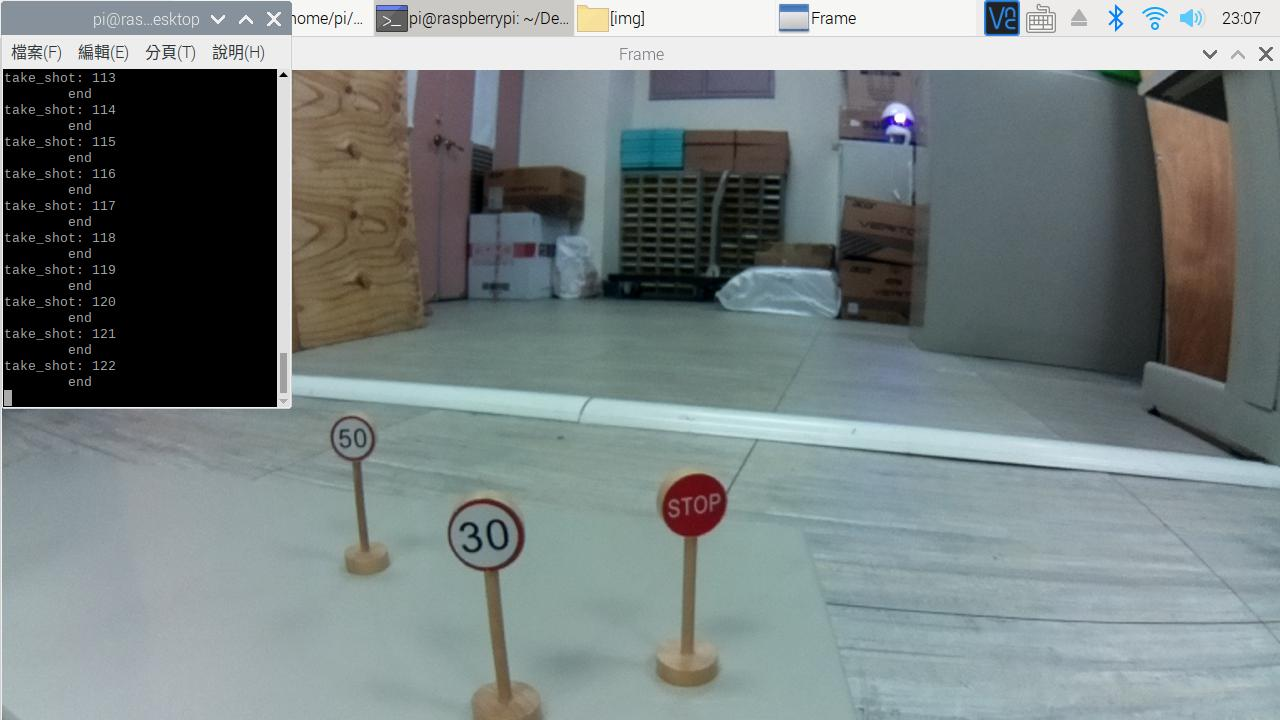Speed30: (440, 492, 544, 587)
Speed50: (324, 414, 390, 475)
Stop: (637, 457, 744, 548)
